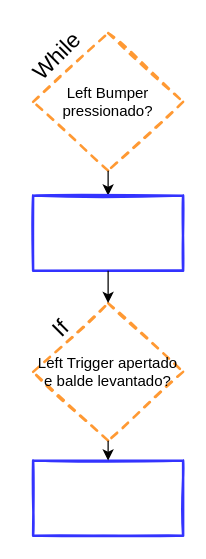
This 206x559 diagram has some shape labels left out. The centre of each missing label's shape, as x and y in pixels:
Deixa levantado o balde com as argolas: the point at 107,232
Empurra a argola para atirar com a roda: the point at 107,497
